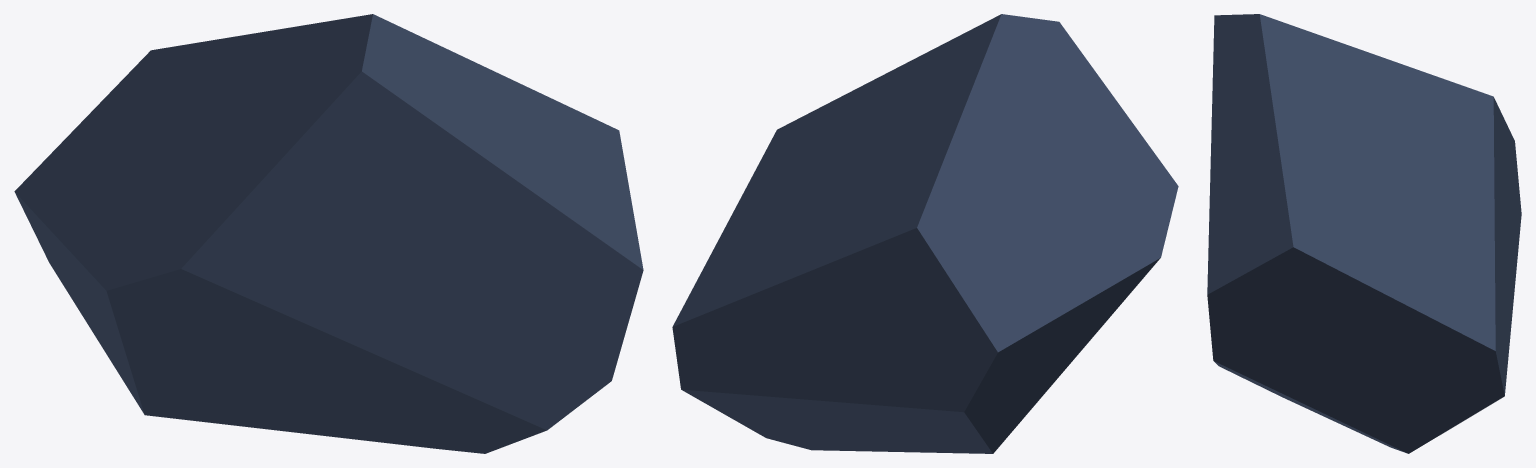
File: Coal D.fbx
3 renders of one model, left to right at view 1: azimuth 30°, elevation 25°; view 2: azimuth 150°, elevation 25°; view 3: azimuth 270°, elevation 25°, orthographic. The views are drawn at different scales.
Parts seen in each view (by area): view 1: Coal D; view 2: Coal D; view 3: Coal D.
Part boxes in pixels (x1,y1,x2,y2): Coal D: [14, 14, 643, 453]; Coal D: [672, 14, 1178, 453]; Coal D: [1207, 14, 1521, 453].
Bounding box in the file's own units: 43.96 × 44.74 × 33.52.
